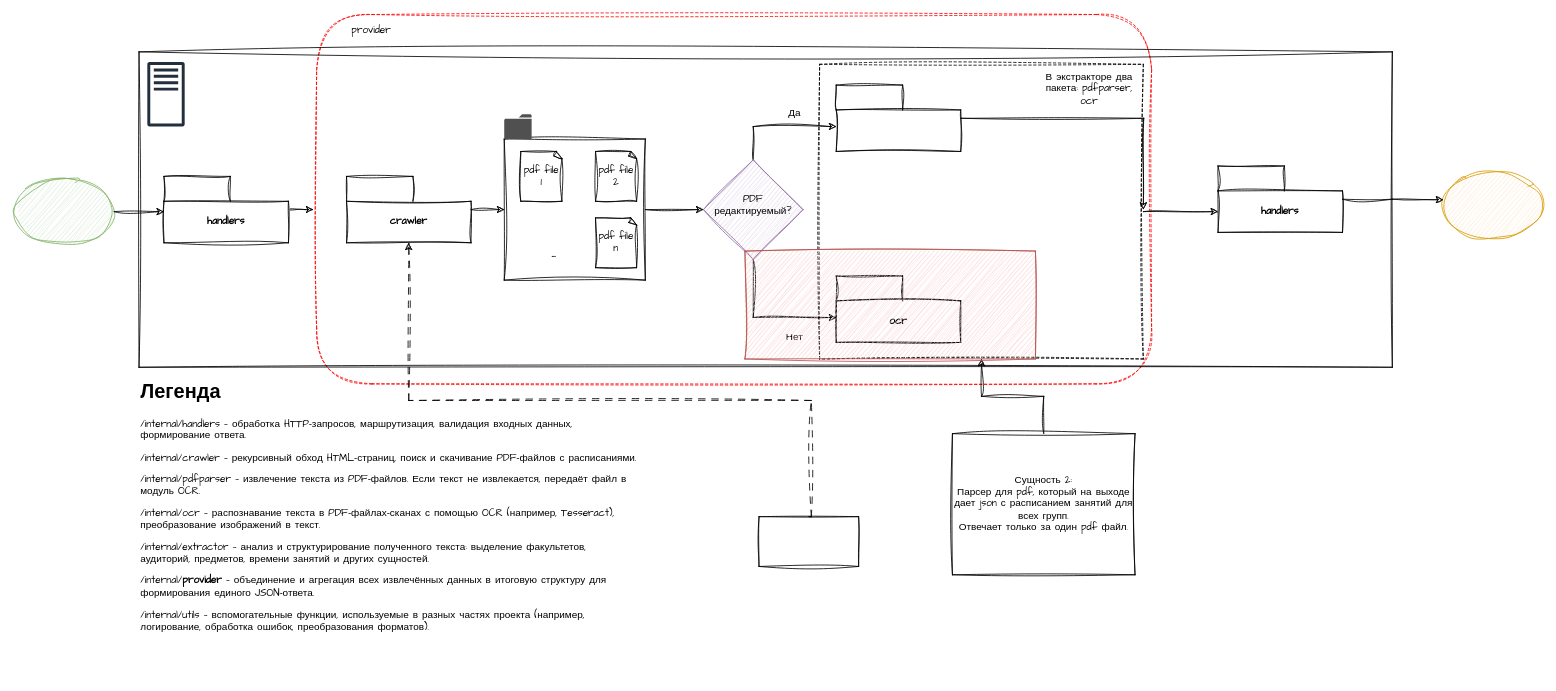
This 1556x691 diagram has some shape labels left out. Here are the shapes that lost their labels. From the top down, the centre of each, then its label:
At [898,117]: "pdfparser".
At [64,211]: "Get request".
At [1491,205]: "response".
At [808,541]: "Сущность 1: Парсер html, который скачивает pdf".
